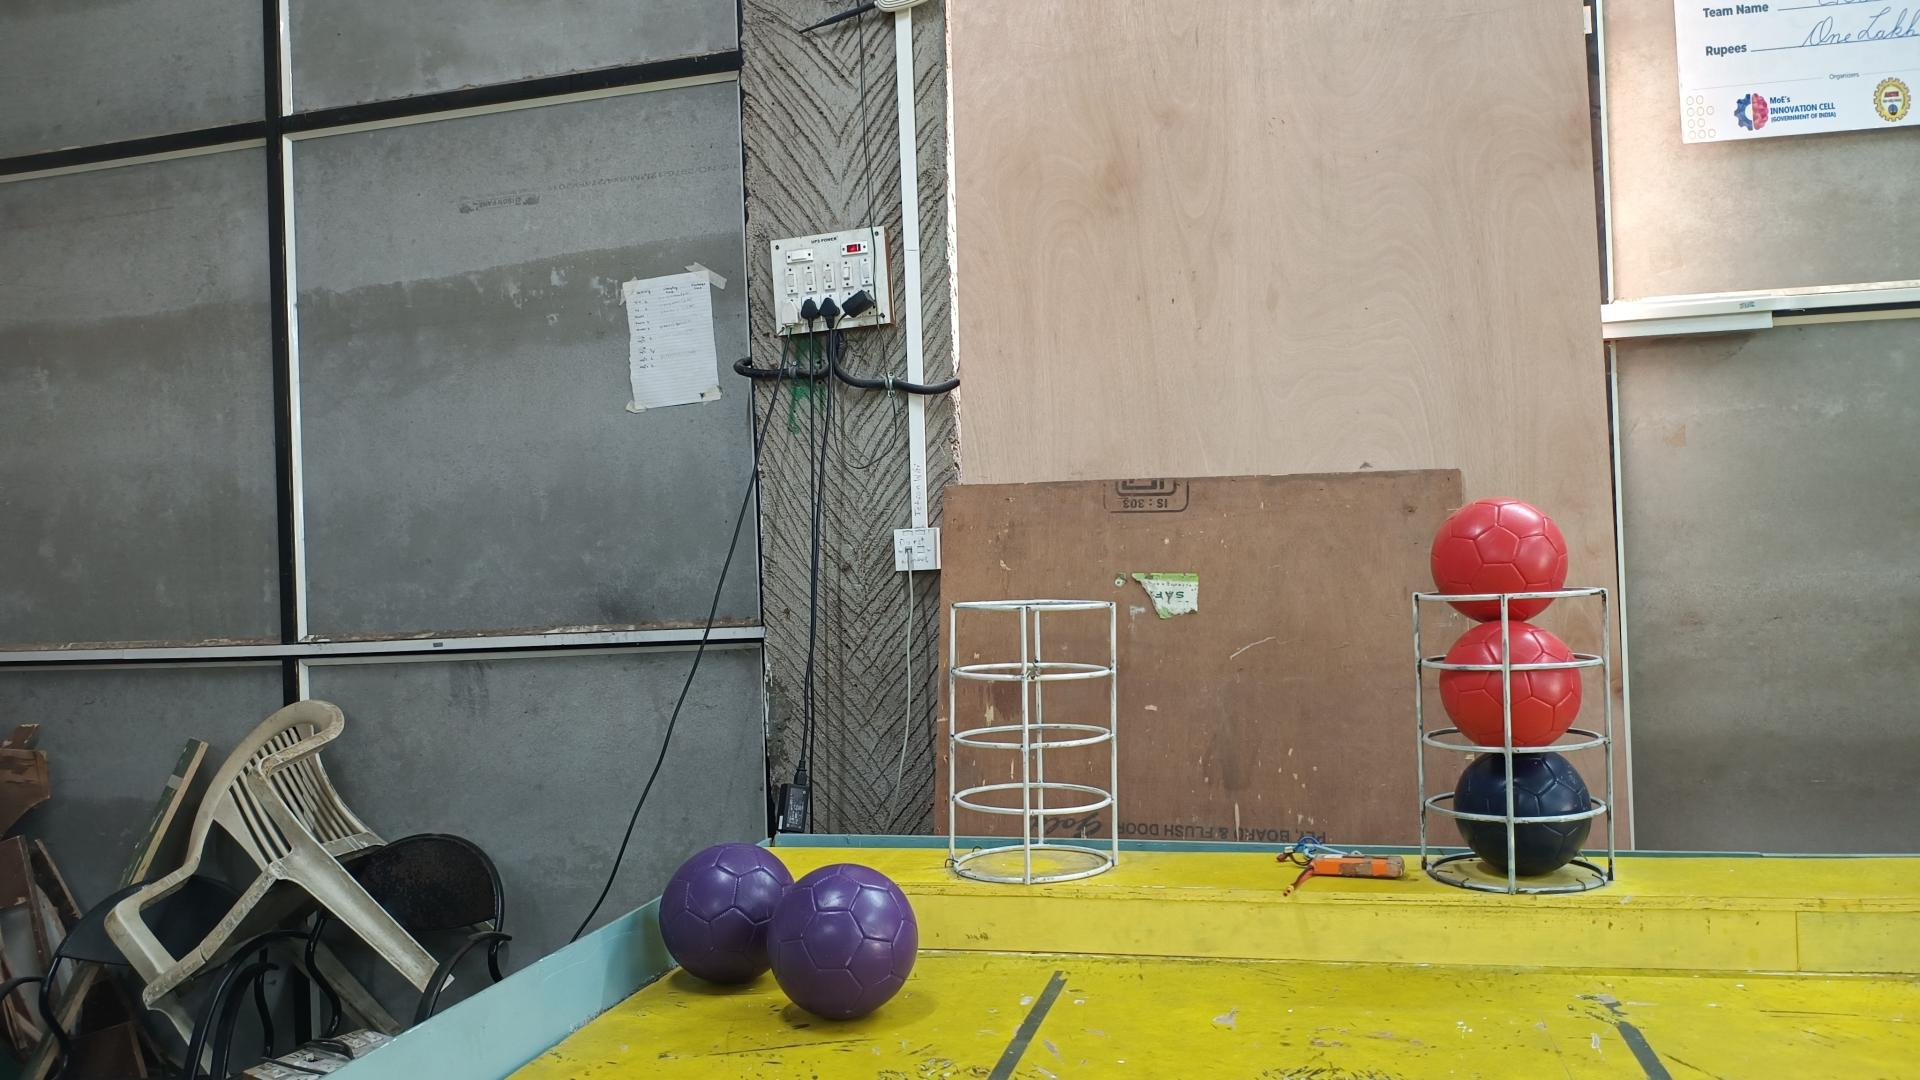dhoka: (1452, 752, 1594, 878)
laale: (1440, 618, 1582, 746), (1431, 495, 1569, 622)
